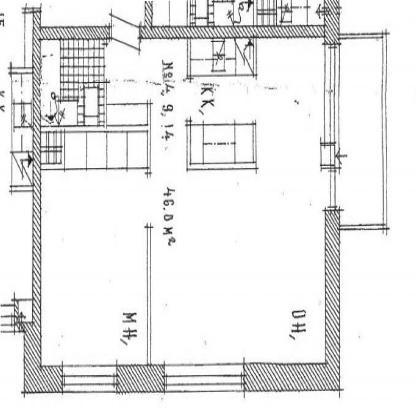door: (103, 9, 145, 57)
window: (157, 356, 246, 404), (57, 356, 121, 404), (317, 41, 342, 149)
